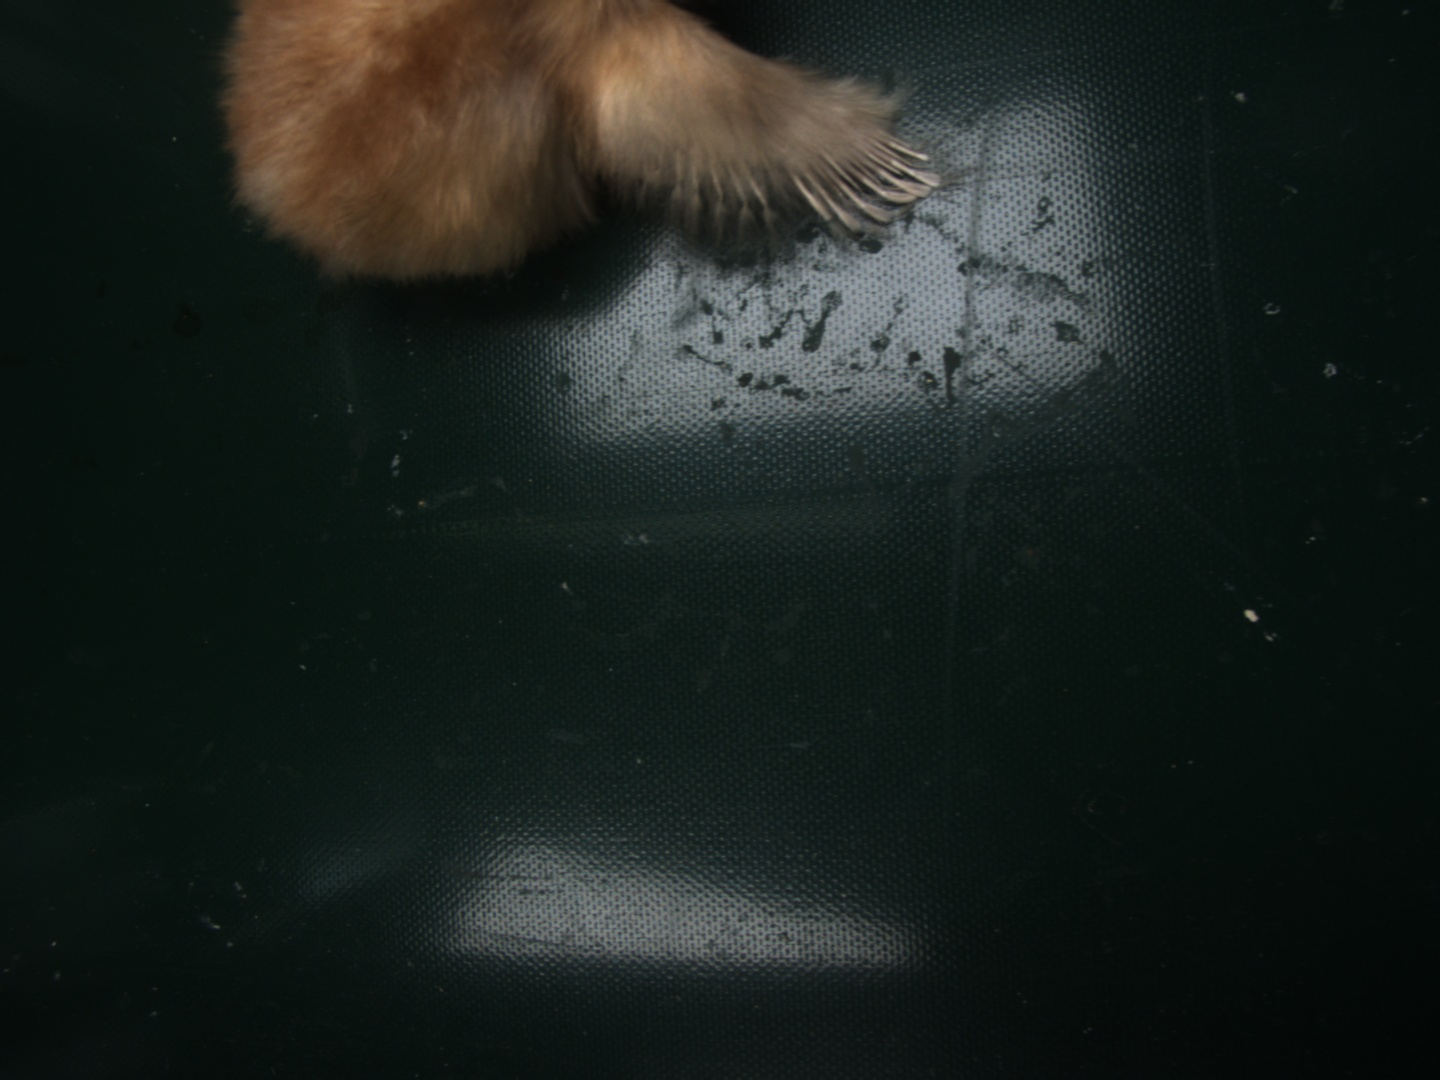female: (791, 123, 941, 233)
